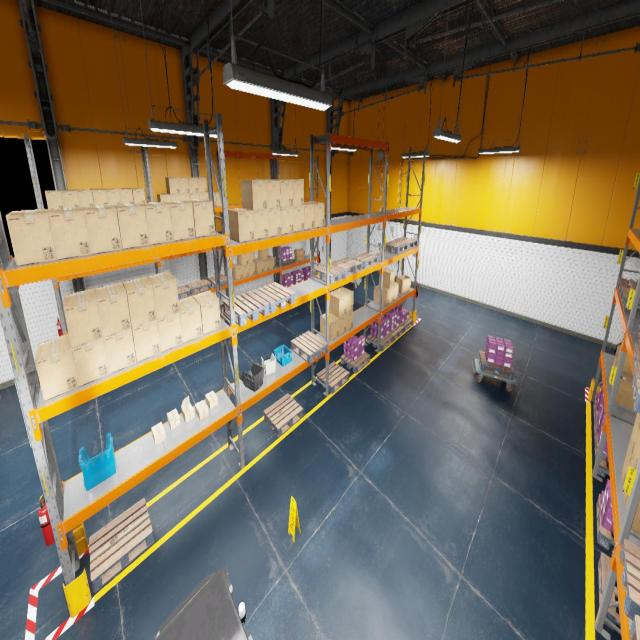box: (34, 334, 78, 401), (6, 209, 56, 266), (63, 288, 103, 348), (48, 207, 91, 259), (95, 282, 131, 337), (83, 204, 122, 253), (122, 276, 157, 327), (72, 338, 109, 386), (113, 203, 149, 249), (147, 271, 179, 319), (104, 328, 136, 374), (140, 201, 173, 245), (163, 200, 195, 241), (192, 290, 221, 334), (132, 319, 161, 362), (185, 199, 215, 237), (178, 296, 202, 343), (157, 312, 183, 352), (228, 208, 254, 242), (241, 180, 267, 210), (614, 372, 634, 409), (272, 179, 293, 207), (612, 363, 632, 390), (617, 338, 632, 374), (262, 179, 280, 209), (626, 496, 640, 534), (320, 313, 339, 341), (304, 202, 324, 228), (629, 412, 640, 457), (621, 442, 632, 487), (624, 458, 633, 509), (329, 290, 346, 317), (336, 287, 353, 313), (254, 210, 268, 240), (268, 208, 281, 236), (45, 190, 64, 209), (151, 422, 166, 445), (61, 190, 80, 208), (181, 396, 194, 422), (379, 267, 395, 288), (281, 206, 293, 234), (632, 428, 640, 469), (292, 179, 304, 206), (374, 285, 389, 306), (379, 284, 394, 304), (293, 205, 304, 232), (91, 188, 108, 205), (77, 189, 94, 206), (167, 408, 180, 430), (195, 400, 208, 420), (304, 203, 314, 229), (105, 188, 121, 204), (165, 177, 180, 194), (396, 275, 410, 293), (205, 390, 218, 409), (130, 188, 145, 203), (611, 355, 618, 385), (119, 188, 133, 203), (613, 341, 621, 366), (178, 177, 190, 193), (232, 264, 242, 280), (188, 177, 198, 193), (339, 314, 346, 336), (197, 177, 207, 192), (346, 310, 353, 331), (237, 253, 248, 266), (259, 258, 269, 272), (258, 248, 269, 260), (294, 248, 304, 261), (255, 258, 263, 274), (214, 191, 222, 206), (157, 193, 170, 202), (208, 192, 216, 206), (242, 264, 249, 278), (268, 256, 274, 270), (249, 262, 255, 276), (248, 251, 254, 264), (394, 282, 398, 300), (180, 193, 190, 200), (198, 193, 208, 199), (170, 194, 180, 200), (190, 193, 199, 199)
forklift: (154, 566, 253, 640)
pallets: (89, 498, 154, 592), (598, 552, 620, 630), (264, 393, 302, 437), (620, 538, 640, 620), (223, 291, 269, 326), (252, 282, 295, 313), (291, 331, 327, 363), (478, 350, 514, 379), (317, 362, 349, 394), (596, 494, 614, 550), (314, 263, 347, 284), (341, 352, 370, 374), (330, 257, 363, 276), (594, 438, 608, 478), (367, 333, 393, 351), (620, 287, 640, 310), (352, 252, 378, 268), (631, 367, 640, 413), (186, 279, 211, 295), (617, 277, 638, 296), (384, 240, 408, 254), (394, 237, 418, 249), (629, 614, 640, 639), (208, 274, 227, 288), (389, 324, 404, 340), (632, 344, 640, 373), (399, 318, 413, 332), (177, 285, 191, 299), (593, 396, 600, 422), (276, 258, 294, 266), (594, 415, 598, 445), (635, 324, 640, 344), (353, 278, 359, 281), (222, 306, 223, 311)
